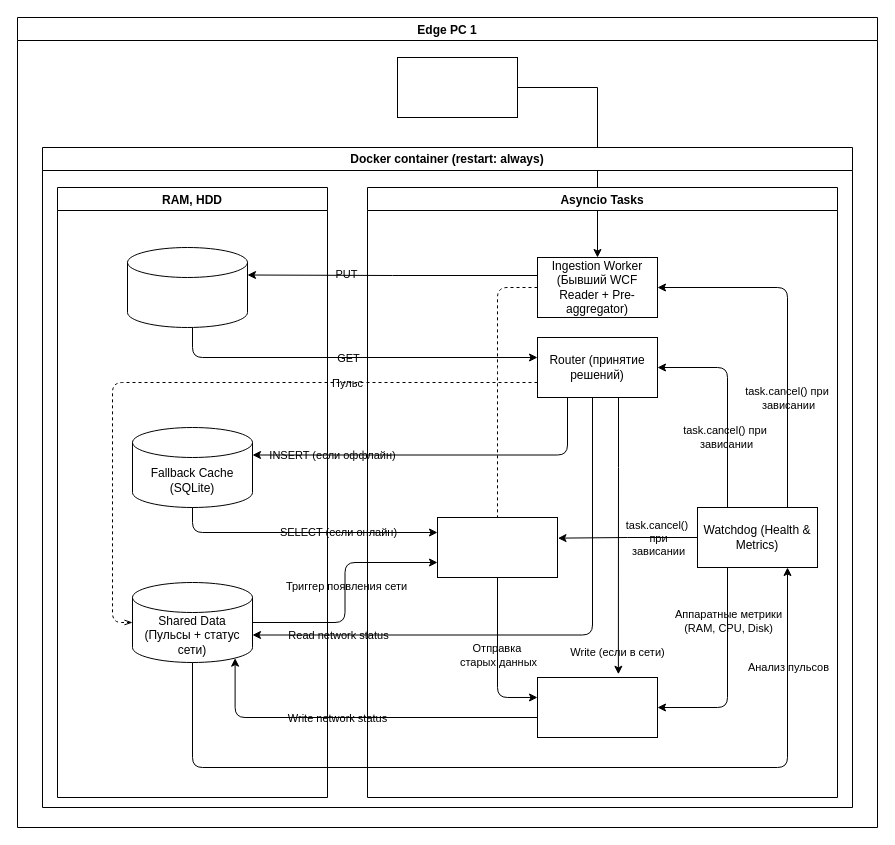
Image size: 895x845. Some labels were removed from this diagram. Here are the shapes that lost their labels. From the top down, the centre of each, then its label:
(x=457, y=87): LIMACO WCF SERVICE
(x=187, y=287): payload_queue (asyncio.Queue)
(x=497, y=547): Retry Worker
(x=597, y=707): Network Gateway
